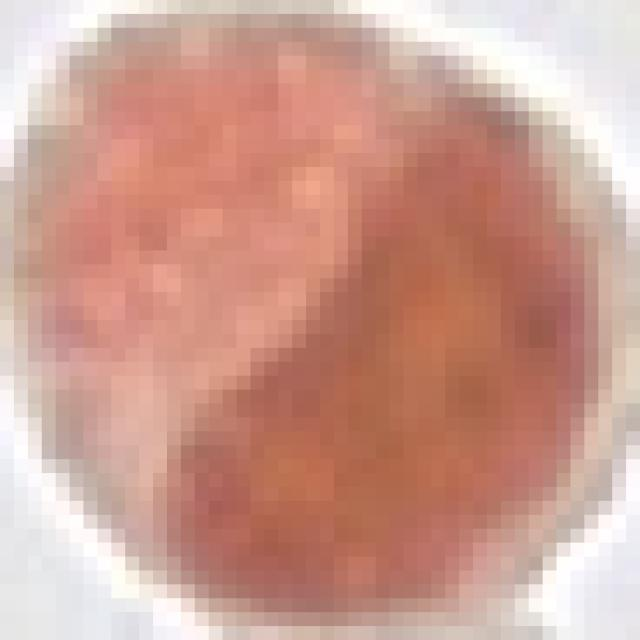cytoplasm: (7, 0, 626, 626)
